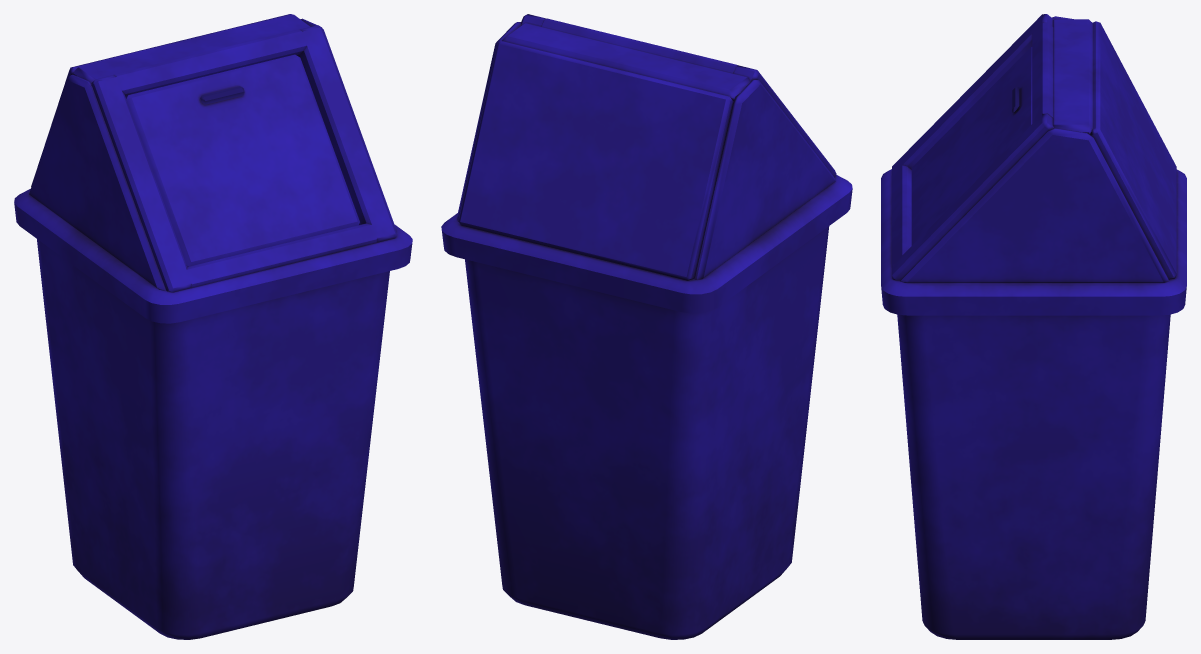
Rendered from cesto_lixo_azul_sujo_realista.glb.
3 renders of one model, left to right at view 1: azimuth 30°, elevation 25°; view 2: azimuth 150°, elevation 25°; view 3: azimuth 270°, elevation 25°, orthographic. The views are drawn at different scales.
Visible parts, largest first — view 1: Lixeira_Vermelha_Papel, Portinhola_Pivo_X; view 2: Lixeira_Vermelha_Papel; view 3: Lixeira_Vermelha_Papel, Portinhola_Pivo_X.
Boxes of the visible parts, x1,y1,x2,y2 form: Lixeira_Vermelha_Papel: [14, 14, 412, 639]; Portinhola_Pivo_X: [126, 54, 359, 266]; Lixeira_Vermelha_Papel: [441, 14, 852, 639]; Lixeira_Vermelha_Papel: [881, 14, 1186, 639]; Portinhola_Pivo_X: [911, 47, 1032, 245].
Bounding box in the file's own units: 0.27 × 0.5141 × 0.27.
Materials: 1 (1 with a texture image).
